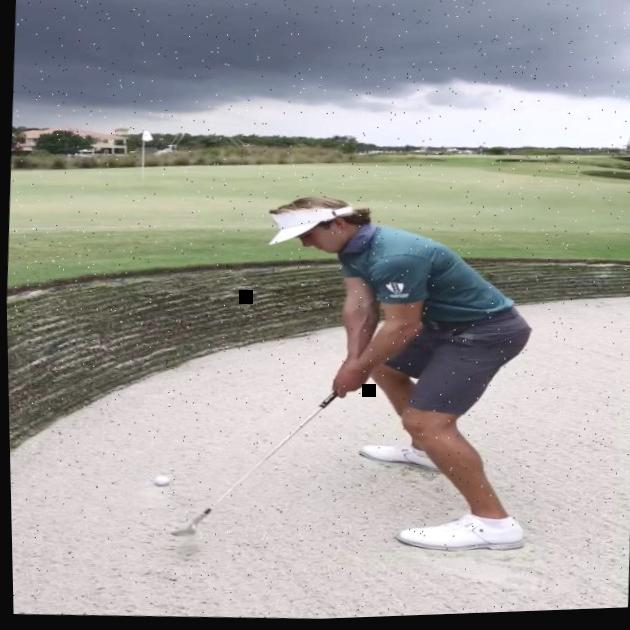ClubHead: (167, 523, 194, 539)
GolfBall: (153, 477, 170, 488)
